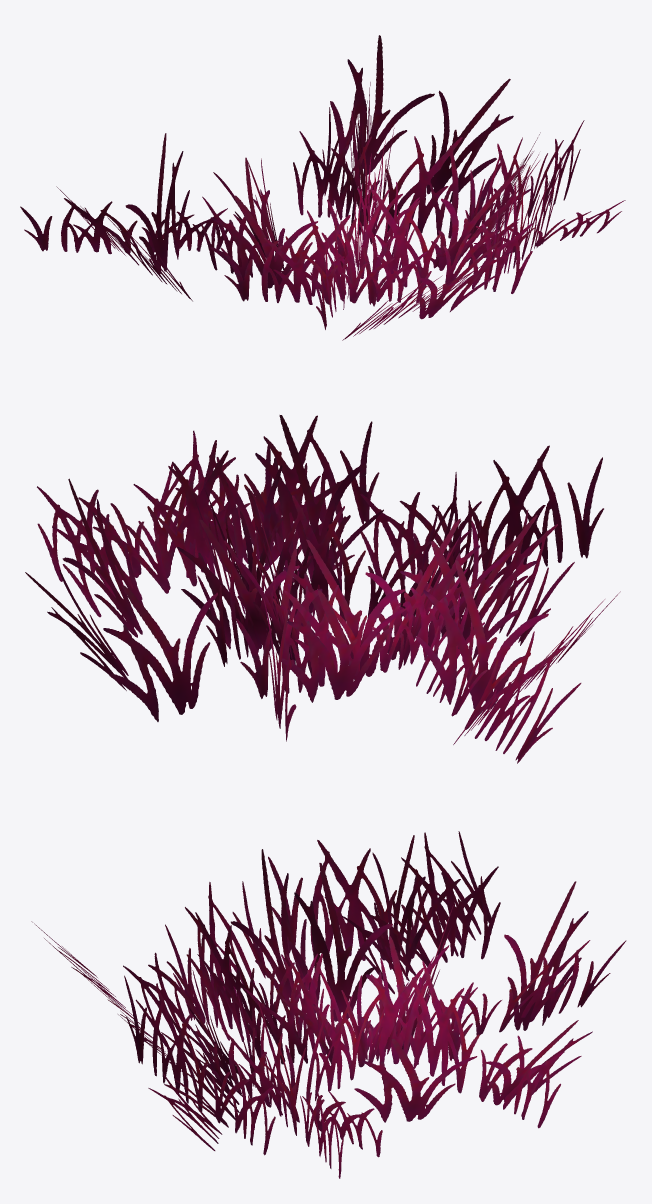
3 views of the same model, one above another, from view 1: azimuth 30°, elevation 25°; view 2: azimuth 150°, elevation 25°; view 3: azimuth 270°, elevation 25° (orthographic). The views are drawn at different scales.
Visible parts, largest first — view 1: SM_GF_GrassShort_01_LOD0; view 2: SM_GF_GrassShort_01_LOD0; view 3: SM_GF_GrassShort_01_LOD0.
Part boxes in pixels (x1=…): SM_GF_GrassShort_01_LOD0: x1=20, y1=35, x2=625, y2=340; SM_GF_GrassShort_01_LOD0: x1=25, y1=415, x2=620, y2=763; SM_GF_GrassShort_01_LOD0: x1=31, y1=831, x2=626, y2=1178.
Size of the model in its own units: 1.19 by 0.3527 by 1.09.
1 material, 1 textured.
